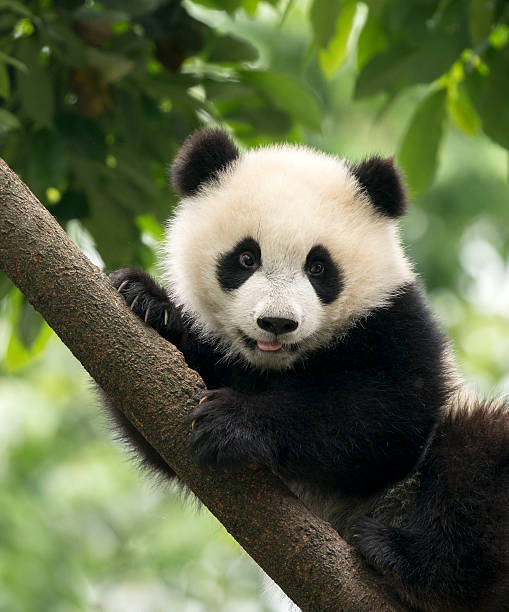panda: (153, 99, 445, 388)
